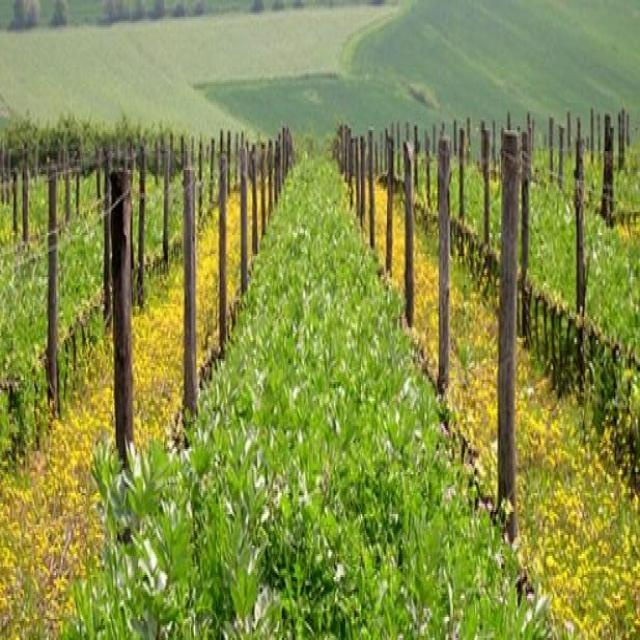row: (51, 143, 548, 639), (353, 176, 640, 640), (0, 173, 282, 636)
